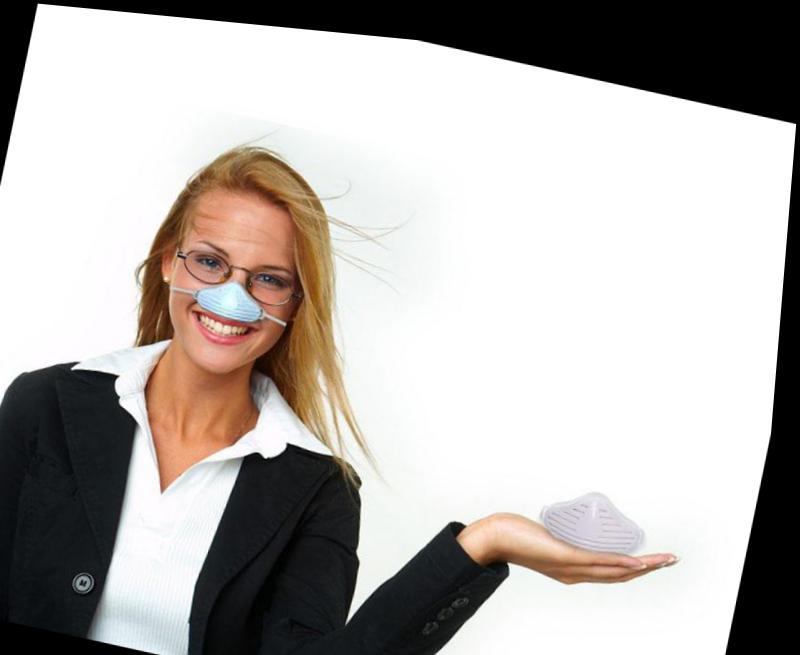WRONG: (165, 226, 308, 382)
